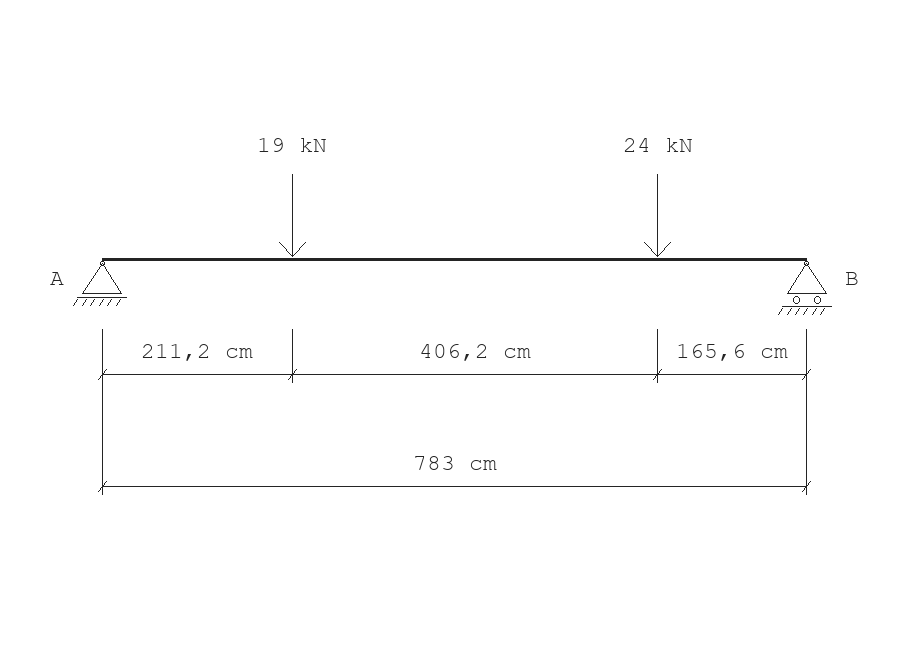pin_support: (73, 261, 127, 306)
point_load: (279, 174, 306, 257), (644, 174, 671, 257)
roller_support: (778, 261, 832, 315)
